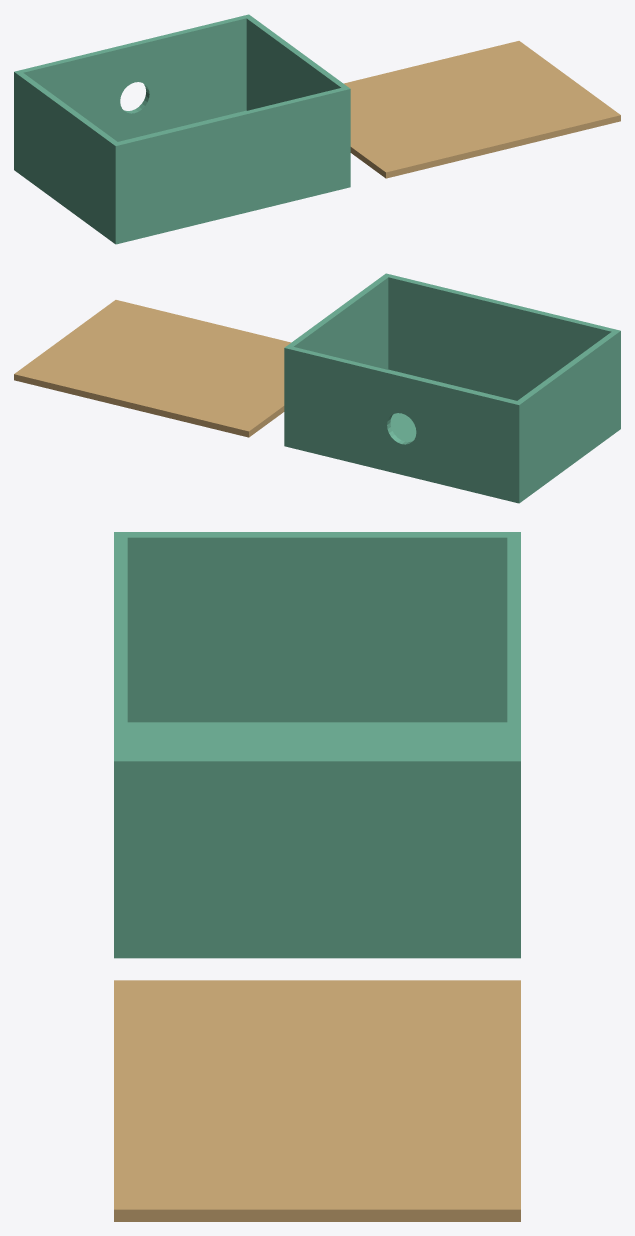
File: electronics-enclosure.glb
3 views of the same model, one above another, from view 1: azimuth 30°, elevation 25°; view 2: azimuth 150°, elevation 25°; view 3: azimuth 270°, elevation 25° (orthographic). The views are drawn at different scales.
Visible parts, largest first — view 1: Open enclosure with cable port, Separate lid; view 2: Open enclosure with cable port, Separate lid; view 3: Open enclosure with cable port, Separate lid.
Boxes of the visible parts, box(x1,y1,x2,y2) form: Open enclosure with cable port: box(14, 14, 350, 244); Separate lid: box(344, 41, 620, 178); Open enclosure with cable port: box(284, 273, 620, 503); Separate lid: box(14, 300, 290, 437); Open enclosure with cable port: box(114, 532, 520, 958); Separate lid: box(114, 980, 520, 1221).
Size of the model in its own units: 0.172 by 0.032 by 0.06.
